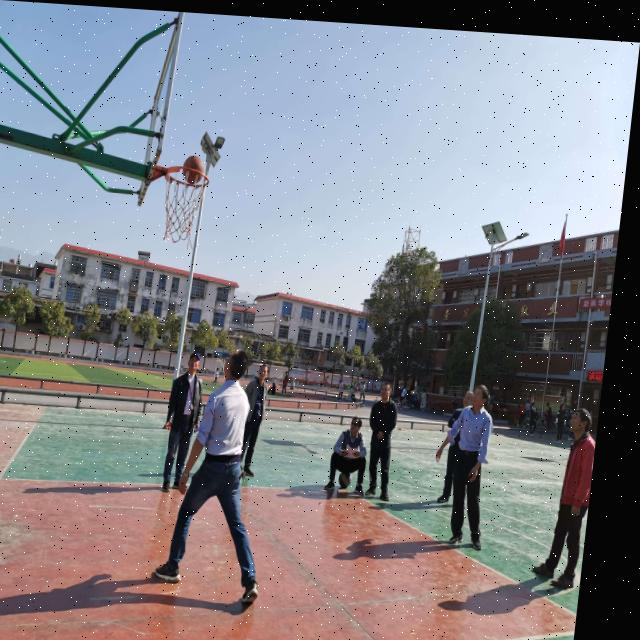basketball: (181, 154, 206, 185), (337, 471, 352, 489)
hoop: (158, 164, 209, 245)
